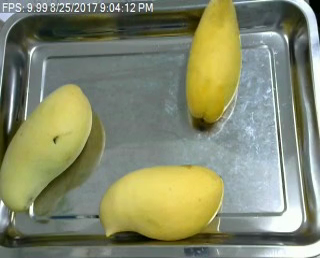Mango: (0, 78, 94, 215), (92, 163, 225, 244), (183, 0, 243, 123)
